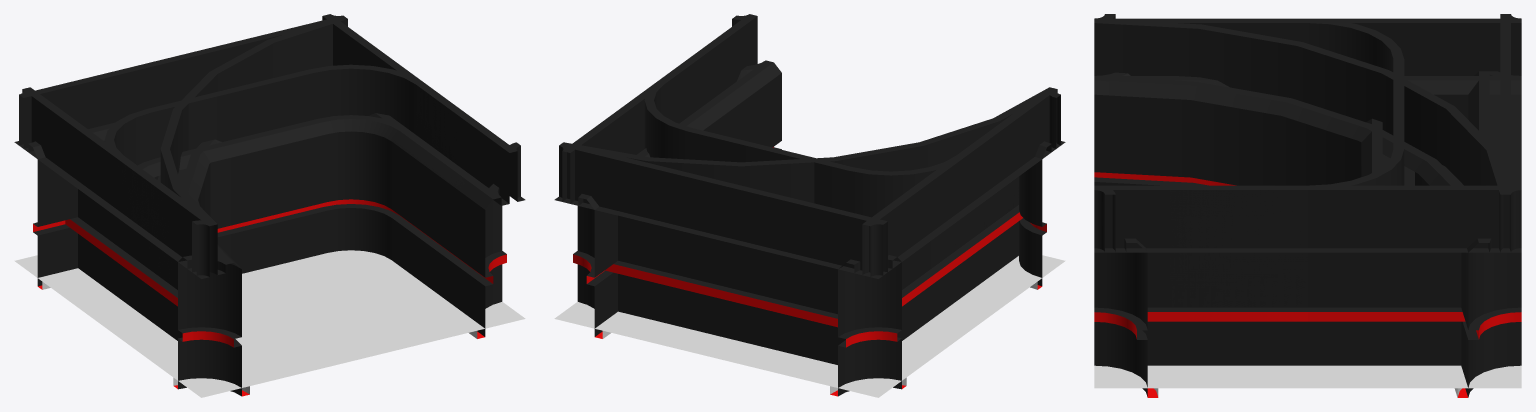
The model's file is Maze.fbx.
The picture shows the model from 3 angles, left to right: view 1: azimuth 30°, elevation 25°; view 2: azimuth 150°, elevation 25°; view 3: azimuth 270°, elevation 25°; orthographic projection. The views are drawn at different scales.
Visible parts, largest first — view 1: Cieco, Corridoio, Curva, Curva Interna, Incrocio T, Curva Interna Doppia, Curva Esterna, Terra, Incrocio X; view 2: Incrocio T, Corridoio, Cieco, Incrocio X, Curva, Curva Interna, Terra, Curva Interna Doppia; view 3: Corridoio, Curva, Cieco, Incrocio T, Incrocio X, Curva Interna Doppia, Curva Esterna, Lato, Curva Interna.
Boxes of the visible parts, box(x1,y1,x2,y2) form: Cieco: box(96, 64, 525, 396); Corridoio: box(14, 14, 522, 395); Curva: box(157, 15, 524, 394); Curva Interna: box(14, 250, 475, 397); Incrocio T: box(18, 16, 343, 377); Curva Interna Doppia: box(15, 220, 473, 396); Curva Esterna: box(236, 254, 525, 375); Terra: box(123, 251, 522, 395); Incrocio X: box(16, 14, 374, 375); Incrocio T: box(559, 142, 989, 388); Corridoio: box(555, 15, 1063, 396); Cieco: box(644, 14, 1065, 277); Incrocio X: box(555, 146, 988, 396); Curva: box(559, 14, 1056, 255); Curva Interna: box(554, 255, 1064, 390); Terra: box(733, 255, 1063, 397); Curva Interna Doppia: box(555, 89, 1064, 396); Corridoio: box(1094, 18, 1521, 365); Curva: box(1094, 20, 1520, 397); Cieco: box(1094, 18, 1414, 321); Incrocio T: box(1158, 14, 1521, 397); Incrocio X: box(1166, 14, 1521, 397); Curva Interna Doppia: box(1094, 14, 1521, 388); Curva Esterna: box(1094, 365, 1456, 388); Lato: box(1094, 366, 1521, 387); Curva Interna: box(1158, 366, 1521, 388).
Size of what is drawn, in the model's own units: 8 by 8 by 4.2.
